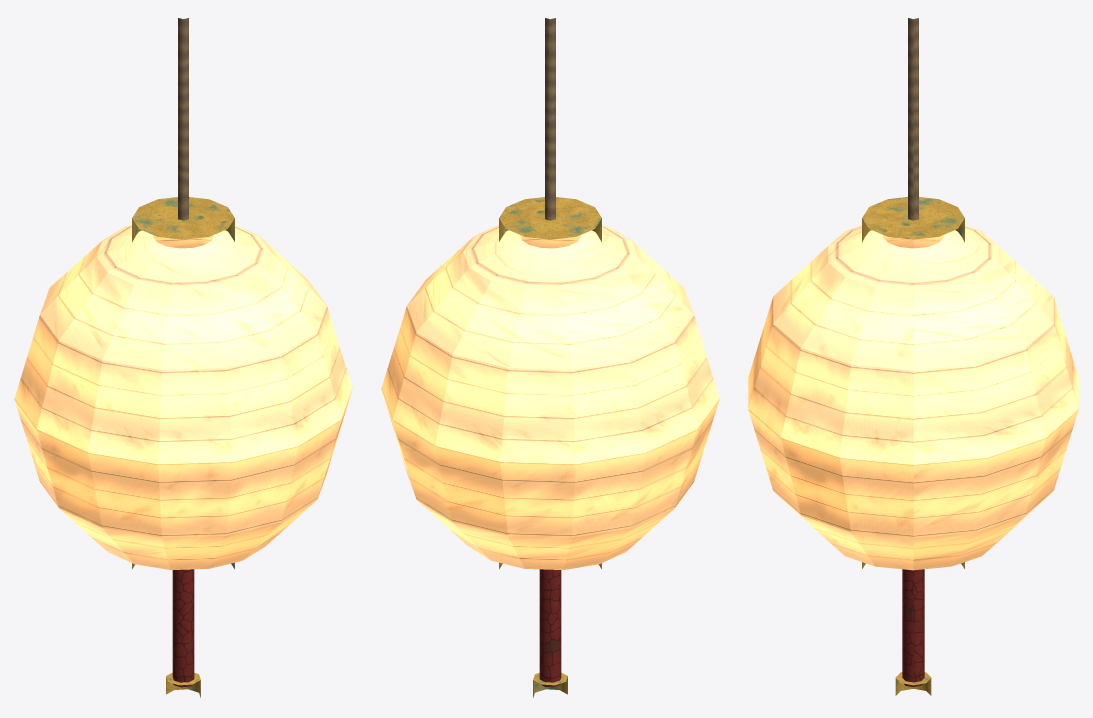
The model's file is lantern.glb.
The picture shows the model from 3 angles, left to right: view 1: azimuth 30°, elevation 25°; view 2: azimuth 150°, elevation 25°; view 3: azimuth 270°, elevation 25°; orthographic projection.
Parts seen in each view (by area): view 1: Lantern; view 2: Lantern; view 3: Lantern.
Boxes of the visible parts, left/top/right/bottom form: Lantern: left=14, top=18, right=352, bottom=697; Lantern: left=381, top=18, right=719, bottom=697; Lantern: left=748, top=18, right=1078, bottom=695.
Bounding box in the file's own units: 0.66 × 1.46 × 0.6435.
4 materials, 4 textured.
